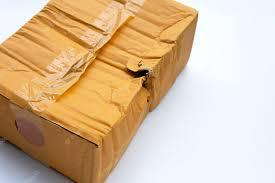damage_box: (0, 0, 199, 182)
